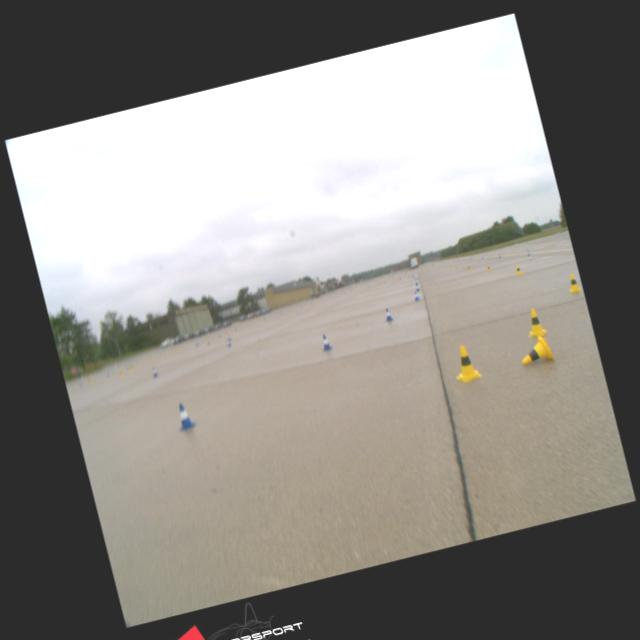blue_cone: (172, 401, 195, 432), (318, 332, 332, 351), (382, 307, 392, 320)
yellow_cone: (448, 341, 482, 382), (516, 332, 554, 367), (521, 304, 548, 338), (565, 272, 580, 291)
